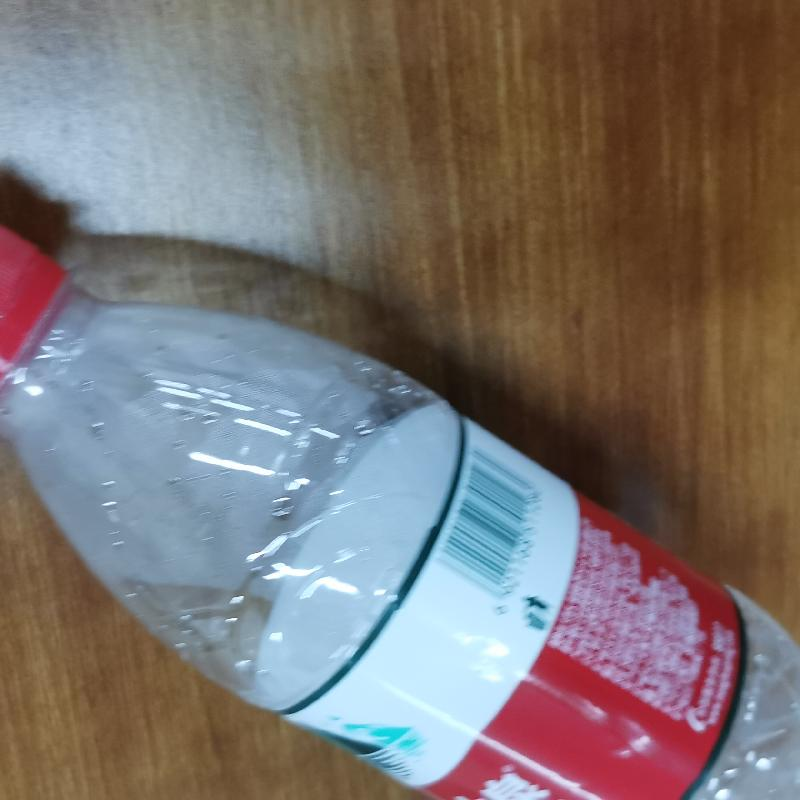bottles: (1, 219, 799, 800)
